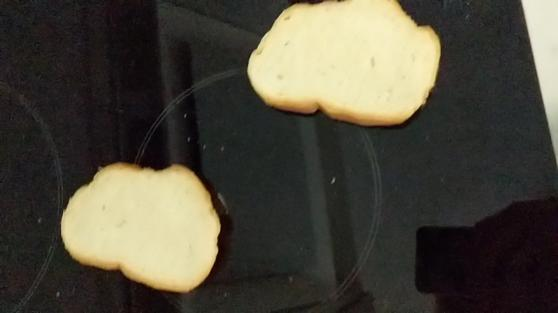white_bread: (244, 1, 457, 132), (63, 161, 226, 292)
